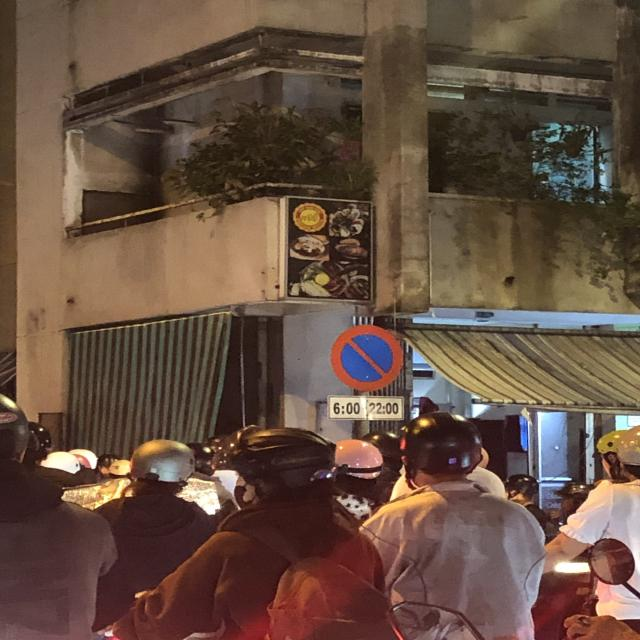Bien bao cam do xe: (324, 321, 411, 395)
